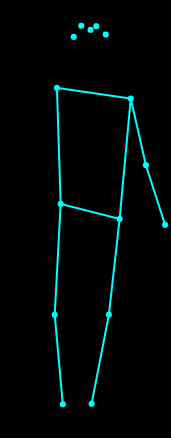mountain: (23, 19, 171, 410)
